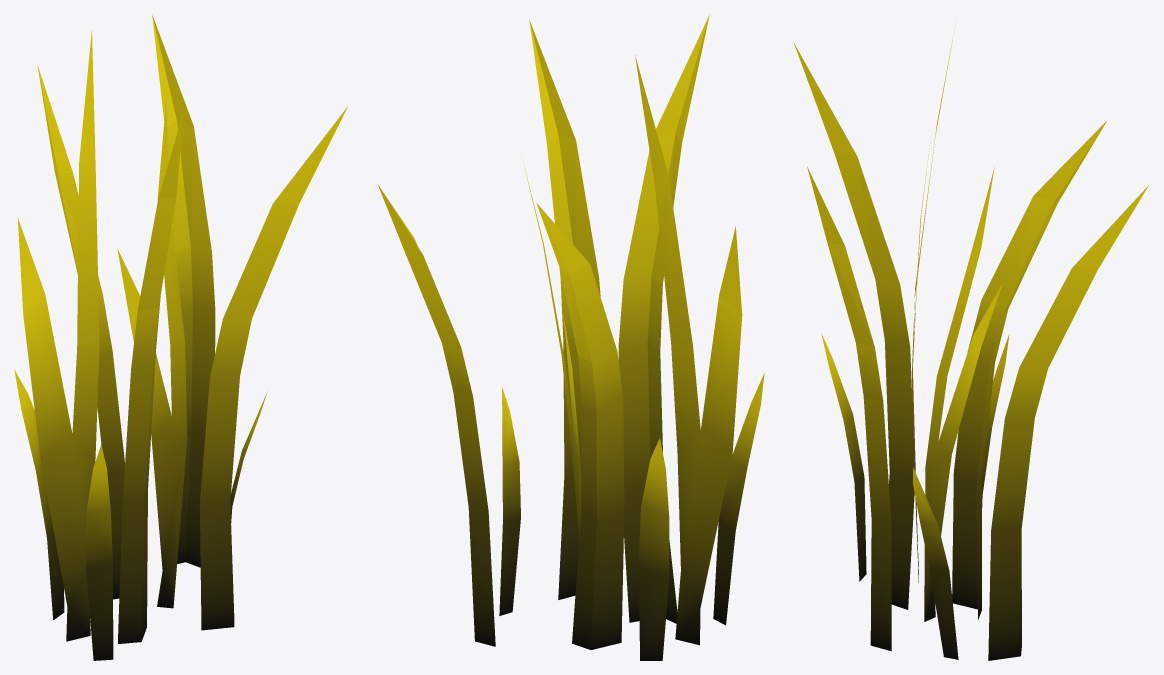
File: Grass_Common_Short.glb
The picture shows the model from 3 angles, left to right: view 1: azimuth 30°, elevation 25°; view 2: azimuth 150°, elevation 25°; view 3: azimuth 270°, elevation 25°; orthographic projection. The views are drawn at different scales.
Bounding box in the file's own units: 0.633 × 1.33 × 0.7373.
1 material, 1 textured.
